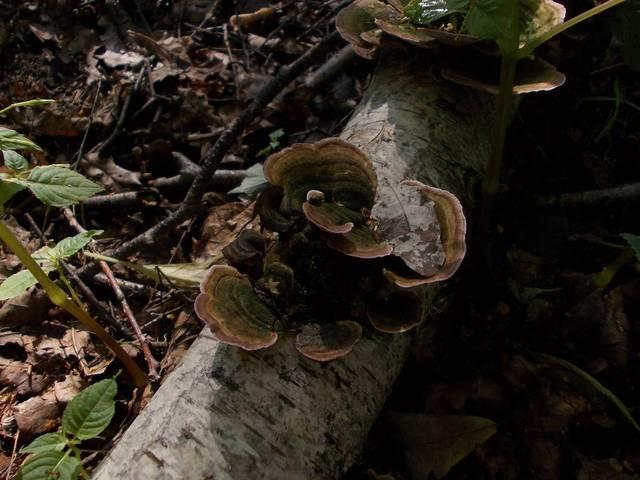poisonous_mushroom: (260, 135, 468, 289)
